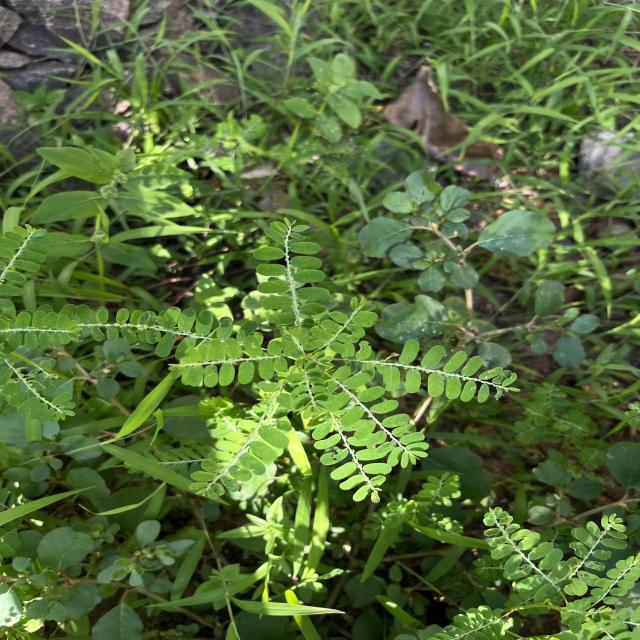Phyllanthus niruri: (320, 368, 433, 468), (372, 336, 524, 404), (252, 212, 332, 330), (189, 413, 292, 501), (482, 503, 565, 592), (168, 338, 292, 387), (310, 294, 378, 354), (568, 512, 630, 572), (286, 360, 338, 420)
